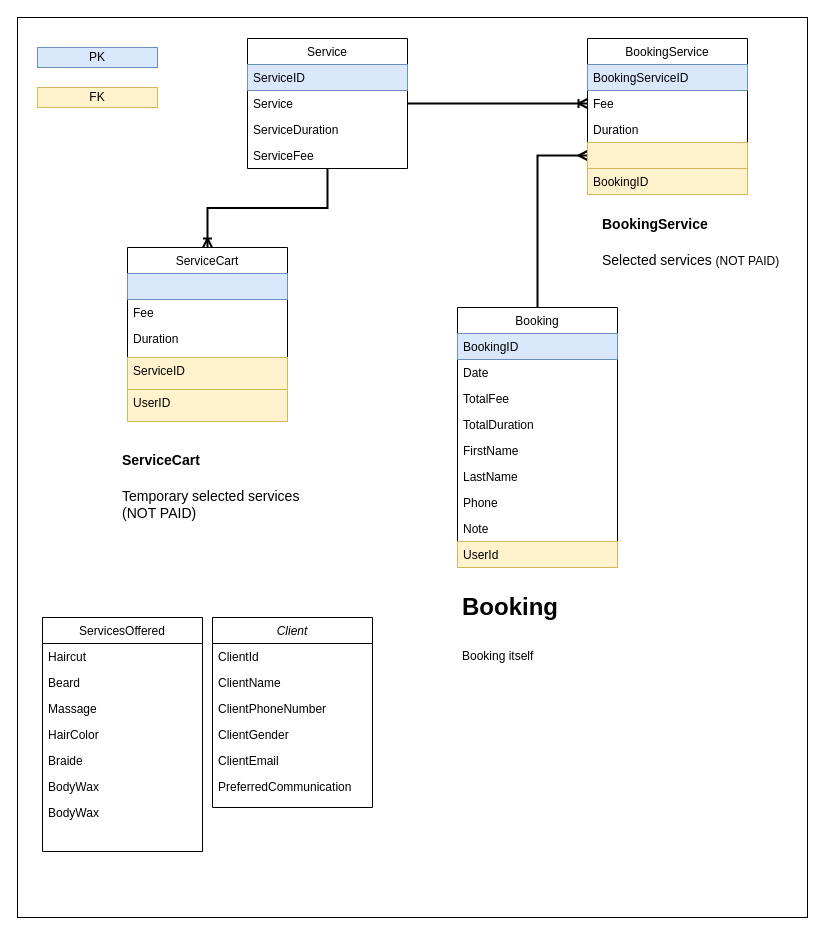
Some shapes in this 835 by 935 pixel diagram are drawn without their labels. Here are the shapes that lost their labels. From the top down, the centre of each, then its label:
[667,155]: SerivceID
[207,286]: ServiceCartID
